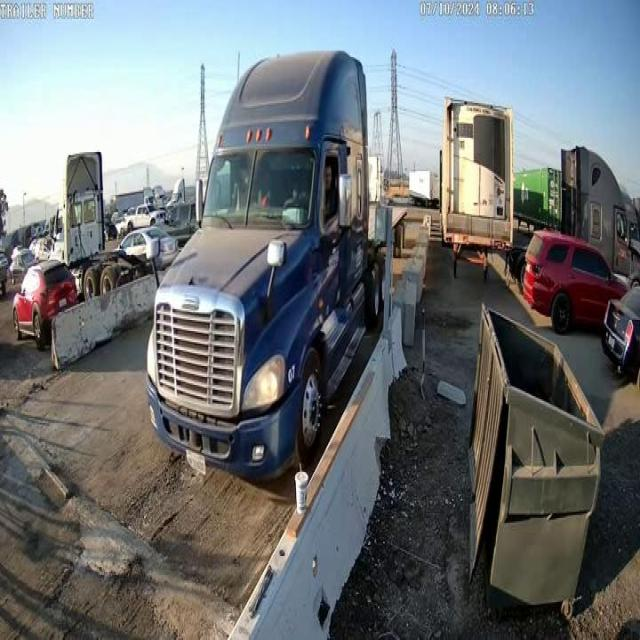BOBTAIL: (144, 48, 408, 484)
